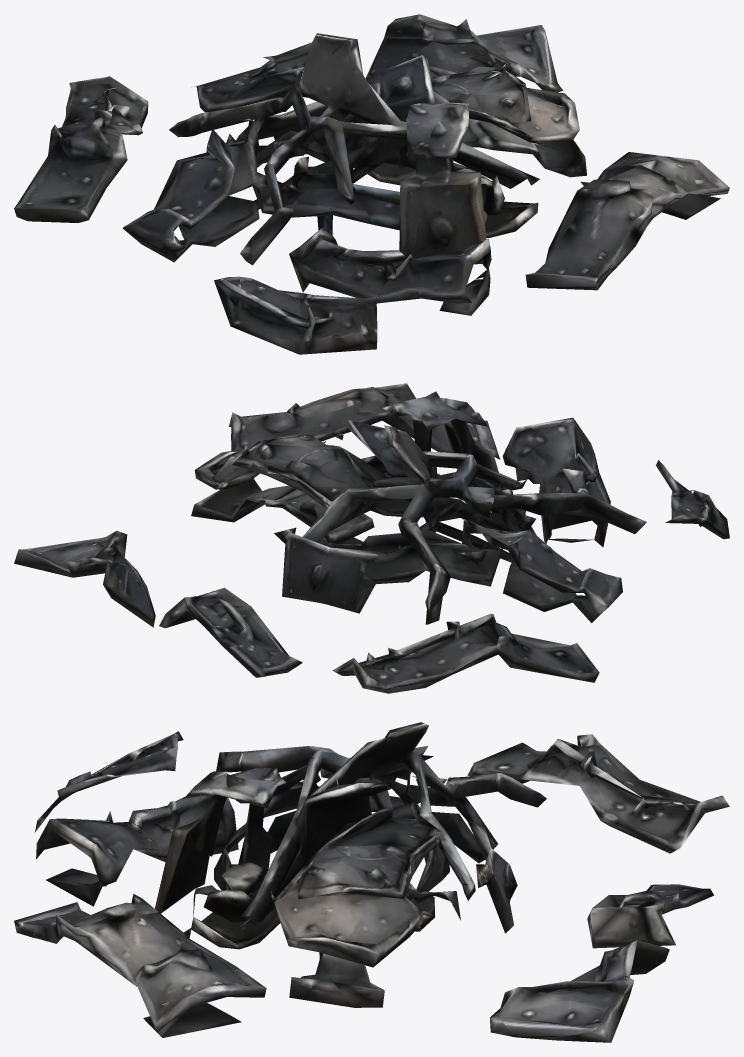
The model's file is deb_metal.glb.
3 renders of one model, top to bottom at view 1: azimuth 30°, elevation 25°; view 2: azimuth 150°, elevation 25°; view 3: azimuth 270°, elevation 25°, orthographic. The views are drawn at different scales.
Visible parts, largest first — view 1: tripo_node_1bd1b8ed-a60b-427f-bcf8-ee2d14cb27e9; view 2: tripo_node_1bd1b8ed-a60b-427f-bcf8-ee2d14cb27e9; view 3: tripo_node_1bd1b8ed-a60b-427f-bcf8-ee2d14cb27e9.
Part boxes in pixels (x1,y1,x2,y2): tripo_node_1bd1b8ed-a60b-427f-bcf8-ee2d14cb27e9: (14,14,729,354); tripo_node_1bd1b8ed-a60b-427f-bcf8-ee2d14cb27e9: (14,383,729,693); tripo_node_1bd1b8ed-a60b-427f-bcf8-ee2d14cb27e9: (14,722,729,1042).
Bounding box in the file's own units: 0.99 × 0.2624 × 0.9824.
1 material, 1 textured.
